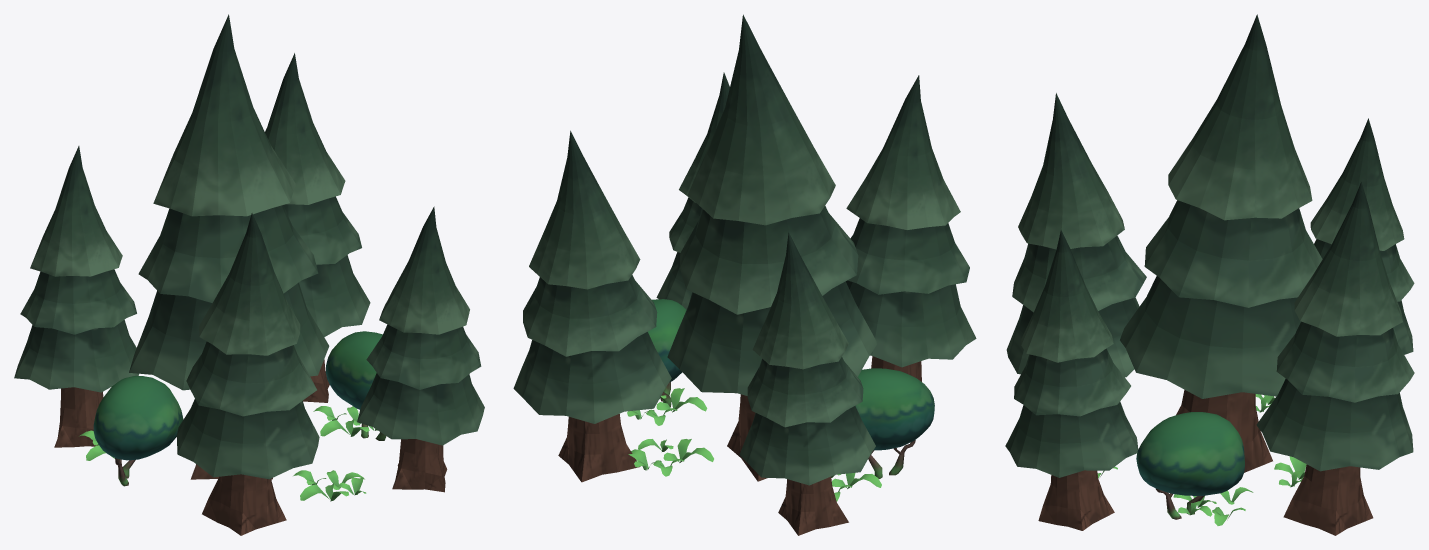
The model's file is Forest_03.fbx.
3 views of the same model, side by side, from view 1: azimuth 30°, elevation 25°; view 2: azimuth 150°, elevation 25°; view 3: azimuth 270°, elevation 25° (orthographic). The views are drawn at different scales.
Parts seen in each view (by area): view 1: Forest_03; view 2: Forest_03; view 3: Forest_03.
Boxes of the visible parts, x1=… form: Forest_03: x1=14, y1=14, x2=484, y2=535; Forest_03: x1=513, y1=14, x2=976, y2=535; Forest_03: x1=1005, y1=14, x2=1414, y2=535.
Size of the model in its own units: 977 by 1217 by 985.
